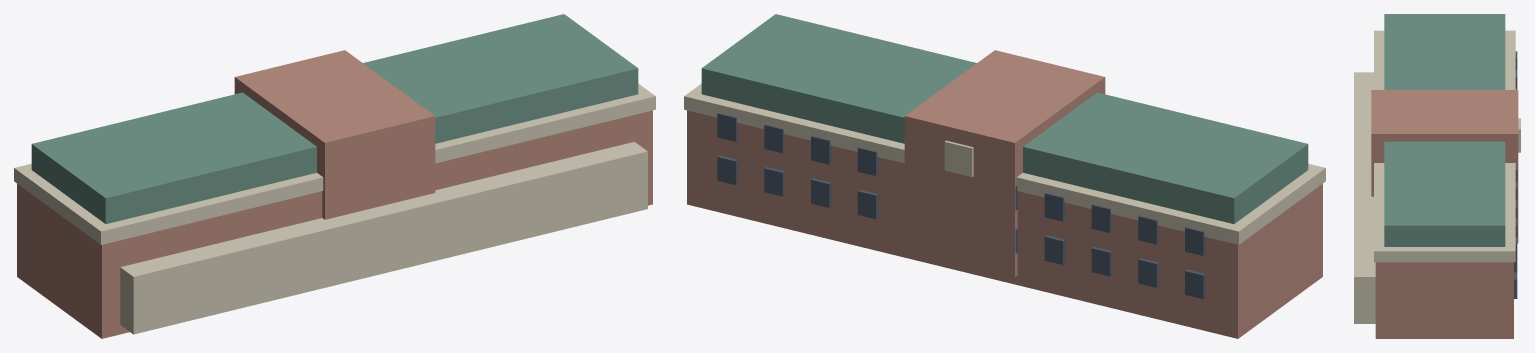
File: station.glb
3 renders of one model, left to right at view 1: azimuth 30°, elevation 25°; view 2: azimuth 150°, elevation 25°; view 3: azimuth 270°, elevation 25°, orthographic. The views are drawn at different scales.
Parts seen in each view (by area): view 1: roof, platform_canopy, hall, clocktower, cornice; view 2: hall, roof, clocktower, cornice, clock, win.007, win.003, win.001, win, win.002, win.008, win.009 (+9 smaller); view 3: roof, hall, clocktower, cornice, platform_canopy.
Boxes of the visible parts, bbox=[...] form: roof: bbox=[31, 14, 638, 223]; platform_canopy: bbox=[120, 142, 647, 334]; hall: bbox=[17, 110, 652, 338]; clocktower: bbox=[234, 50, 435, 219]; cornice: bbox=[14, 83, 655, 244]; hall: bbox=[687, 110, 1322, 338]; roof: bbox=[701, 14, 1308, 223]; clocktower: bbox=[904, 50, 1105, 277]; cornice: bbox=[684, 83, 1325, 244]; clock: bbox=[944, 140, 973, 177]; win.007: bbox=[857, 189, 878, 219]; win.003: bbox=[1044, 235, 1065, 264]; win.001: bbox=[1138, 258, 1158, 287]; win: bbox=[1185, 269, 1205, 299]; win.002: bbox=[1091, 246, 1111, 276]; win.008: bbox=[811, 178, 831, 207]; win.009: bbox=[764, 167, 784, 196]; roof: bbox=[1384, 14, 1505, 246]; hall: bbox=[1375, 262, 1513, 338]; clocktower: bbox=[1371, 90, 1518, 243]; cornice: bbox=[1374, 30, 1515, 262]; platform_canopy: bbox=[1354, 72, 1375, 323].
Bounding box in the file's own units: 60.4 × 15 × 19.3.
